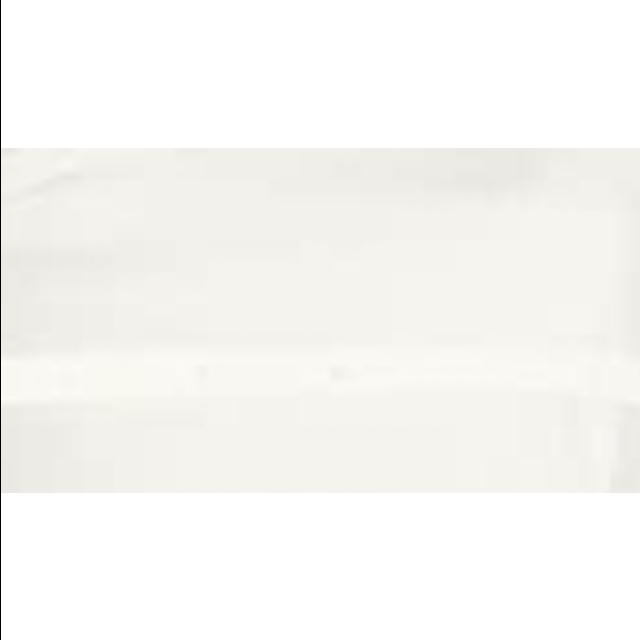polyester: (0, 148, 640, 492)
